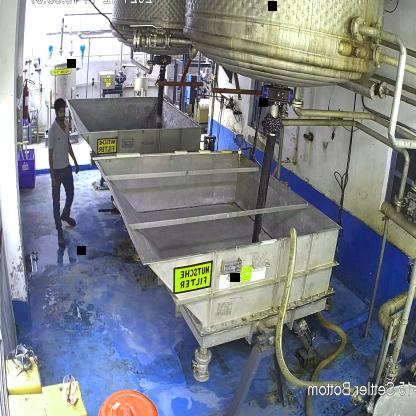no_glove: (43, 143, 60, 191)
